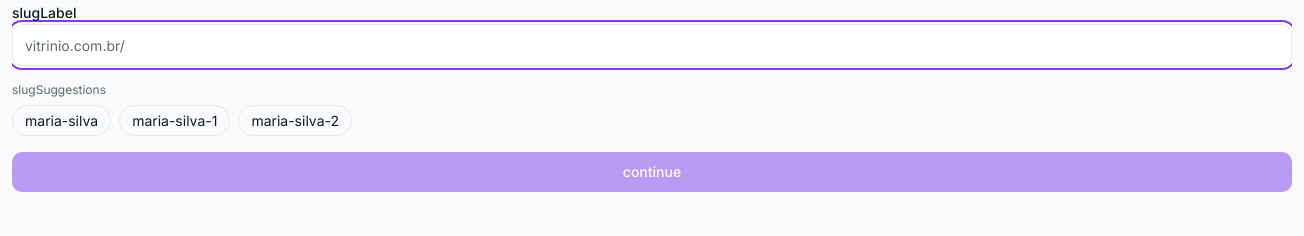
Test case: StepSlug › marca formato inválido
The image size is (1304, 236).
Type "ab" into the field labelled "slugLabel" at (708,45), box [125,25,1291,65]
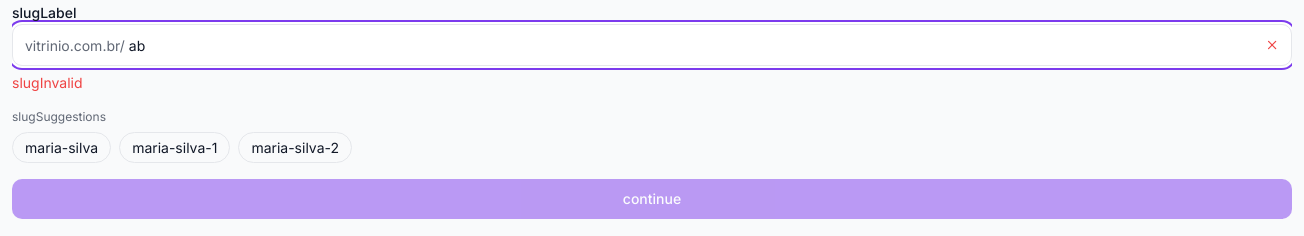
Now the text "slugInvalid" is shown, box [12,74,82,91]
